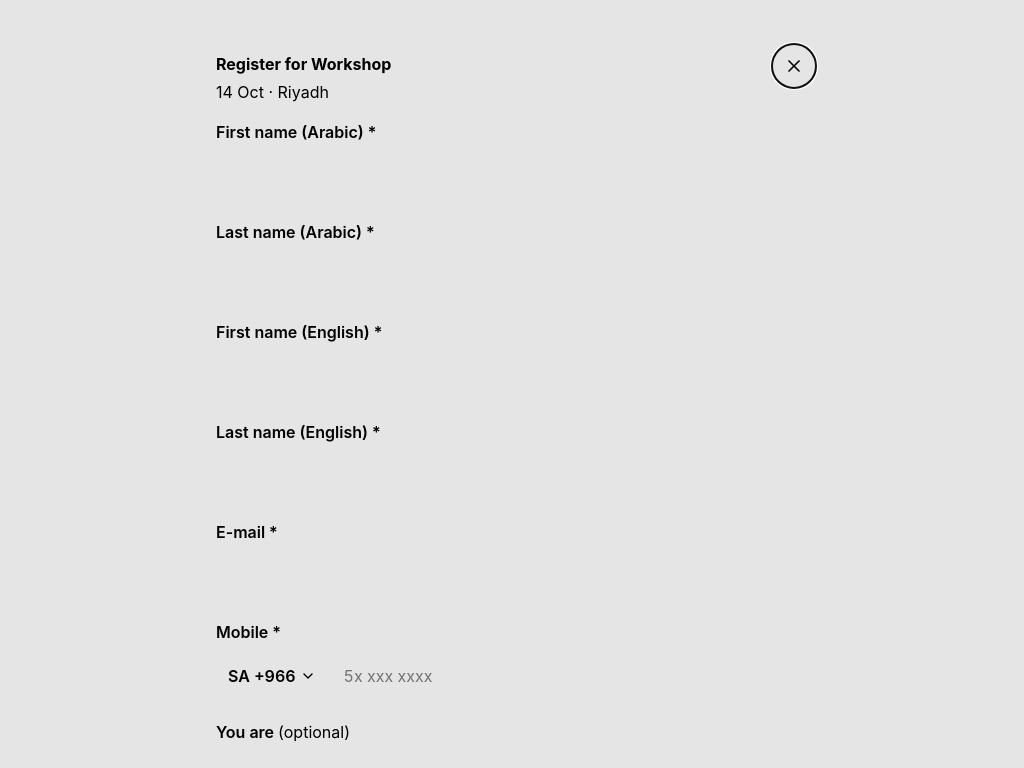
registration dialog: names and phone › shows the Saudi mask 5x xxx xxxx, caps the number and drops a leading zero
This screenshot has width=1024, height=768.
Type "0501234567899" into the field labelled "Mobile*" at (568, 676), box [328, 652, 808, 700]
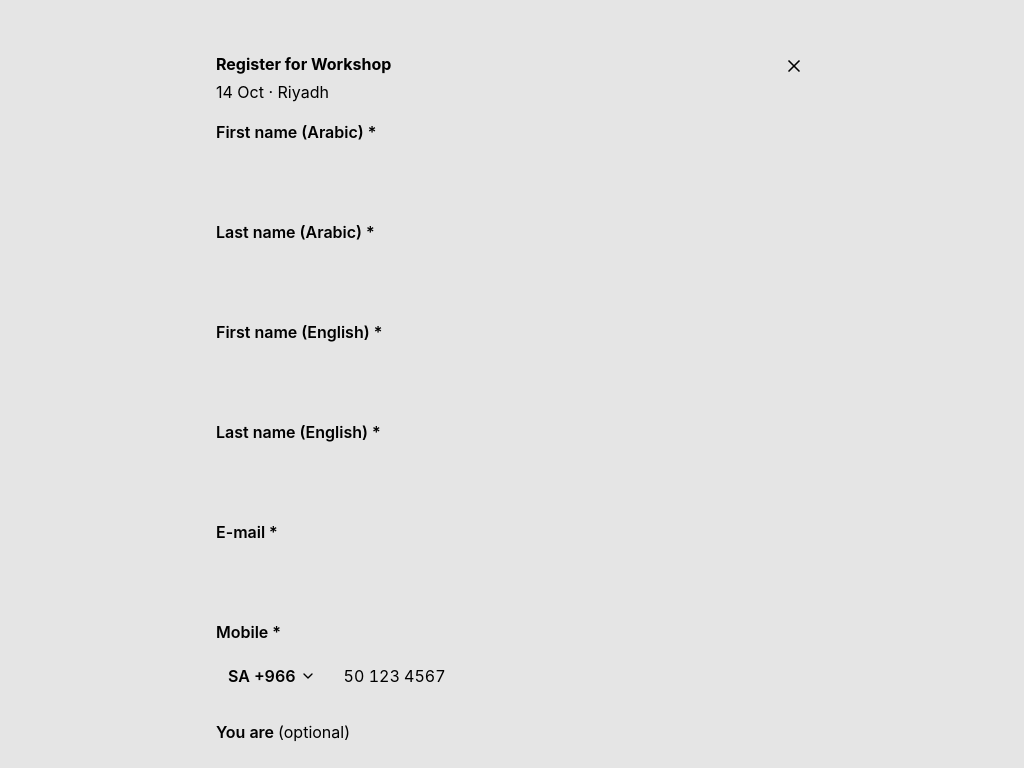
Result: the field labelled "Mobile*" holds "50 123 4567" at [328, 652, 808, 700]
